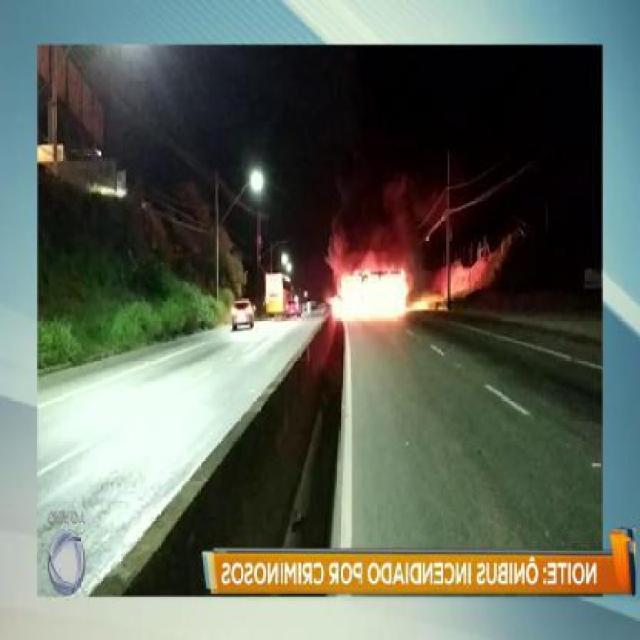Fire: (411, 258, 500, 312), (332, 234, 420, 277), (332, 272, 410, 320)
Smoke: (330, 180, 421, 231)
